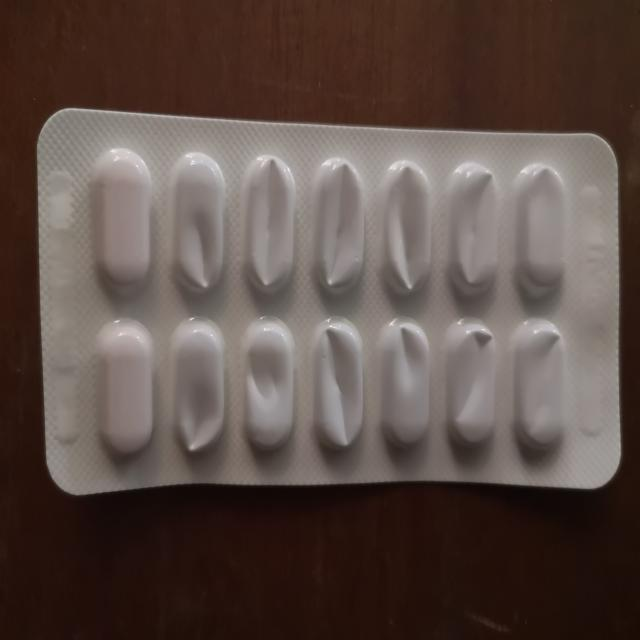Empty: (168, 146, 234, 292), (166, 310, 231, 457), (508, 310, 570, 462), (308, 150, 369, 302), (374, 152, 436, 300), (238, 149, 299, 299), (237, 313, 300, 458), (305, 314, 368, 456), (509, 159, 572, 300), (376, 315, 437, 459), (441, 313, 501, 458), (443, 156, 503, 300)
Pill: (90, 140, 160, 297), (94, 313, 157, 463)
